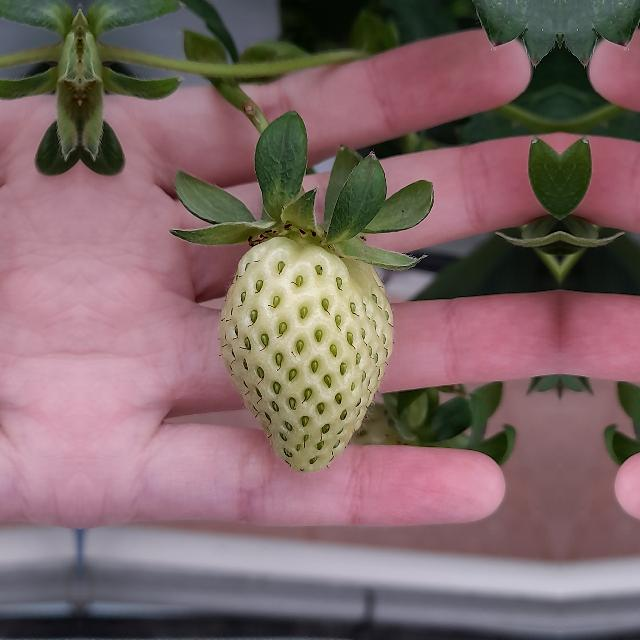Health_25: (220, 236, 392, 472)
